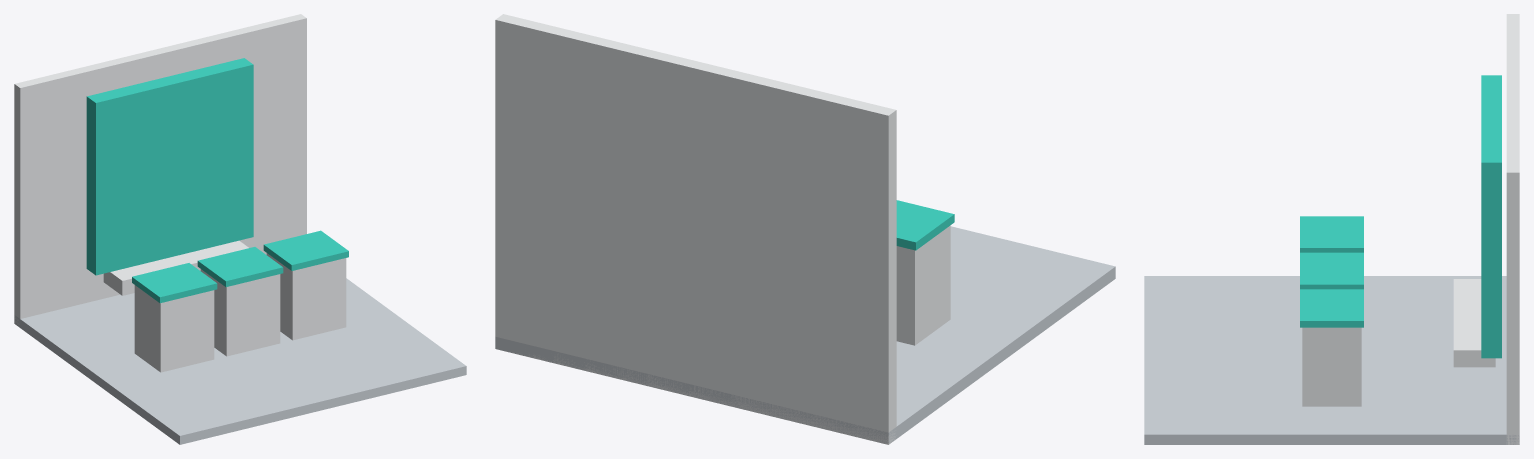
The picture shows the model from 3 angles, left to right: view 1: azimuth 30°, elevation 25°; view 2: azimuth 150°, elevation 25°; view 3: azimuth 270°, elevation 25°; orthographic projection. The views are drawn at different scales.
Parts seen in each view (by area): view 1: Exhibition Booth Concept; view 2: Exhibition Booth Concept; view 3: Exhibition Booth Concept.
Part boxes in pixels (box(x1,y1,x2,y2)): Exhibition Booth Concept: box(14, 14, 466, 444); Exhibition Booth Concept: box(495, 14, 1115, 444); Exhibition Booth Concept: box(1144, 14, 1519, 444).
Bounding box in the file's own units: 4 × 3.2 × 4.
